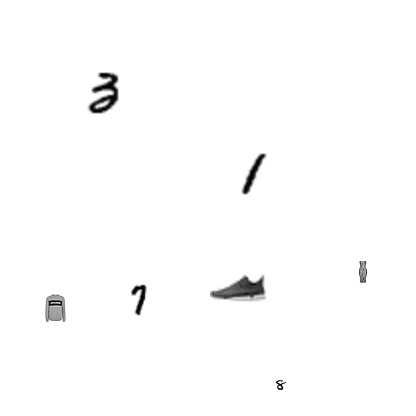1: (224, 144, 280, 200)
3: (76, 65, 132, 121)
7: (118, 276, 160, 318)
8: (273, 378, 287, 392)
Dress: (352, 261, 374, 283)
Pullover: (41, 294, 69, 322)
Sneaker: (210, 259, 266, 315)
